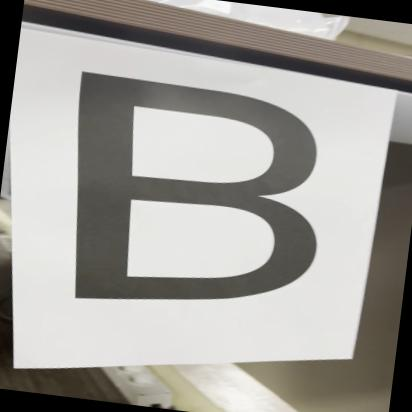seat: (17, 54, 352, 338)
